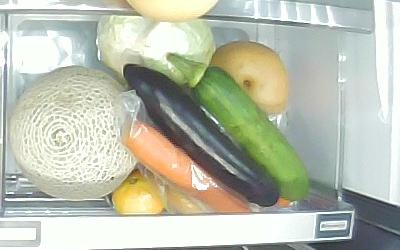cabbage: (97, 13, 216, 86)
carrot_vinyl: (123, 120, 249, 213)
eggplant: (123, 63, 279, 206)
melon: (8, 65, 145, 200)
pear: (209, 41, 288, 117)
tangerine: (111, 170, 164, 215)
zucchini: (165, 53, 308, 201)
